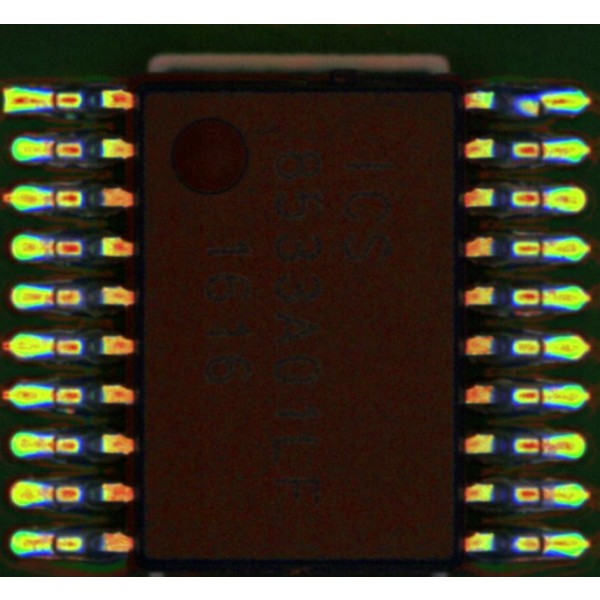Bad_podu: (528, 440, 562, 454), (530, 538, 561, 551), (529, 488, 557, 501), (37, 536, 70, 547), (43, 438, 66, 452), (46, 241, 66, 257), (45, 289, 66, 304), (43, 193, 66, 206), (43, 143, 64, 157), (44, 488, 64, 502)
